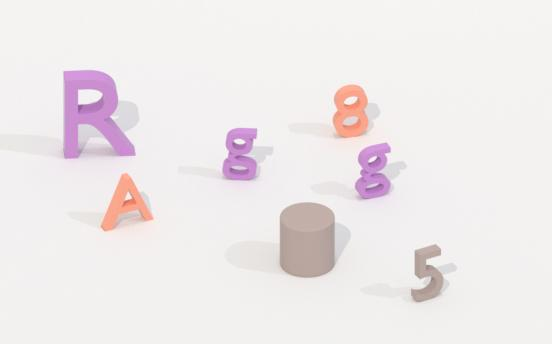5: (408, 237, 448, 308)
8: (326, 78, 370, 140)
A-hoa: (101, 168, 153, 243)
R-hoa: (57, 61, 140, 166)
g: (351, 138, 396, 198), (222, 124, 257, 187)
tru: (276, 197, 338, 280)
